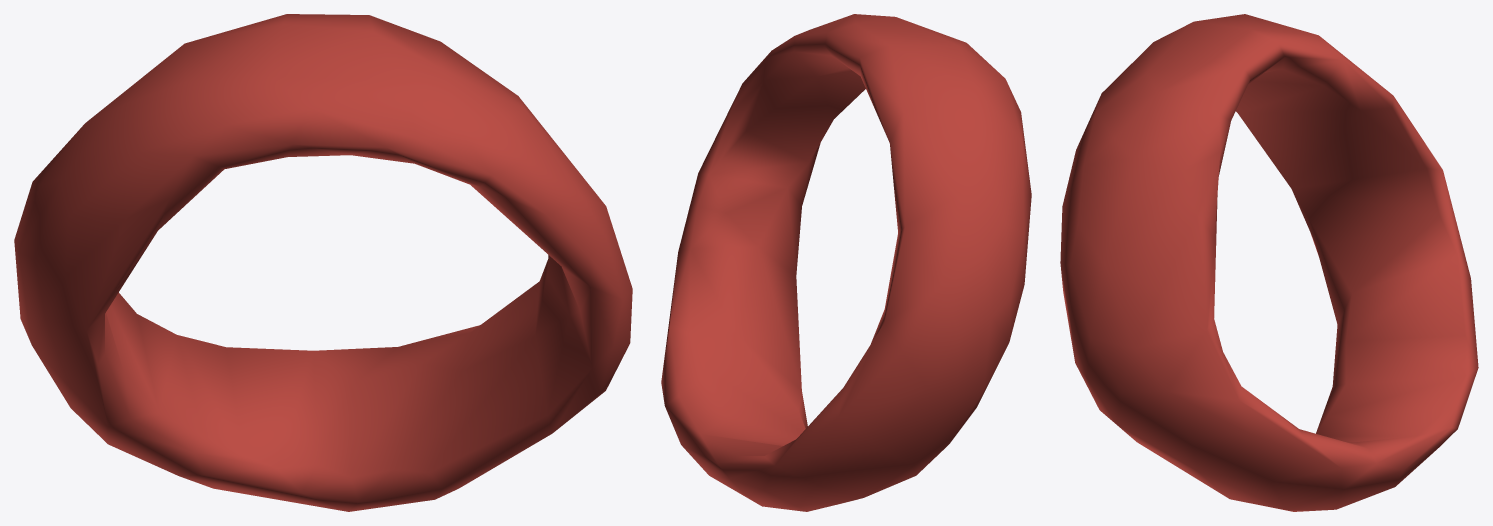
The model's file is musculos-common-tendinous-ring-r.glb.
3 renders of one model, left to right at view 1: azimuth 30°, elevation 25°; view 2: azimuth 150°, elevation 25°; view 3: azimuth 270°, elevation 25°, orthographic. The views are drawn at different scales.
Parts seen in each view (by area): view 1: Common tendinous ring.r; view 2: Common tendinous ring.r; view 3: Common tendinous ring.r.
Boxes of the visible parts, box(x1,y1,x2,y2) form: Common tendinous ring.r: box(14, 14, 632, 511); Common tendinous ring.r: box(661, 14, 1031, 511); Common tendinous ring.r: box(1060, 14, 1478, 511).
Bounding box in the file's own units: 0.00626 × 0.0067 × 0.00584.
